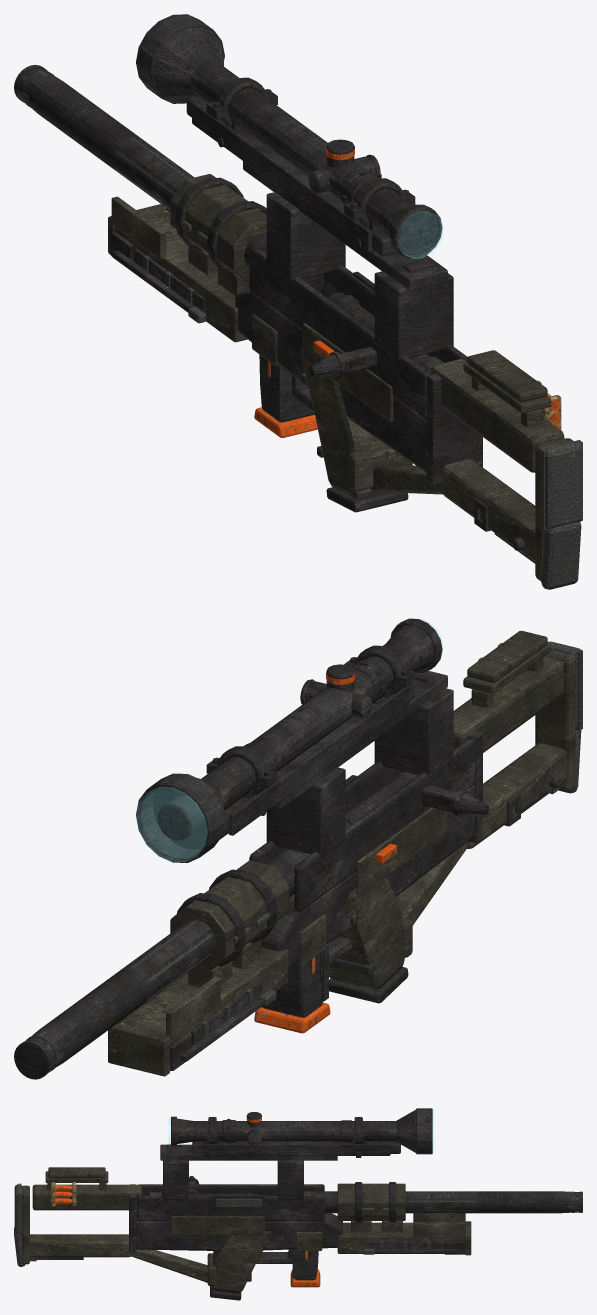
The model's file is ballista.glb.
The picture shows the model from 3 angles, top to bottom: view 1: azimuth 30°, elevation 25°; view 2: azimuth 150°, elevation 25°; view 3: azimuth 270°, elevation 25°; orthographic projection. The views are drawn at different scales.
Parts seen in each view (by area): view 1: body | gunmetal, body | olive drab, factory-optic | gunmetal, body | rubber, bolt | gunmetal, mag | gunmetal, factory-optic | optic glass, mag | orange paint, mag | olive drab; view 2: body | gunmetal, body | olive drab, factory-optic | gunmetal, factory-optic | optic glass, body | rubber, bolt | gunmetal, mag | gunmetal, mag | orange paint, mag | olive drab; view 3: body | gunmetal, body | olive drab, factory-optic | gunmetal, body | rubber, mag | gunmetal, mag | olive drab, trigger | gunmetal, mag | orange paint, bolt | gunmetal.
Boxes of the visible parts, left/top/right/bottom form: body | gunmetal: left=14, top=65, right=535, bottom=563; body | olive drab: left=108, top=174, right=573, bottom=581; factory-optic | gunmetal: left=136, top=14, right=442, bottom=258; body | rubber: left=21, top=69, right=582, bottom=589; bolt | gunmetal: left=309, top=292, right=443, bottom=379; mag | gunmetal: left=259, top=354, right=314, bottom=422; factory-optic | optic glass: left=139, top=23, right=443, bottom=258; mag | orange paint: left=254, top=361, right=317, bottom=437; mag | olive drab: left=252, top=314, right=285, bottom=370; body | gunmetal: left=14, top=670, right=561, bottom=1079; body | olive drab: left=108, top=630, right=575, bottom=1076; factory-optic | gunmetal: left=136, top=618, right=442, bottom=862; factory-optic | optic glass: left=136, top=618, right=443, bottom=862; body | rubber: left=26, top=641, right=582, bottom=1072; bolt | gunmetal: left=345, top=771, right=489, bottom=828; mag | gunmetal: left=262, top=944, right=328, bottom=1017; mag | orange paint: left=254, top=957, right=330, bottom=1033; mag | olive drab: left=295, top=914, right=325, bottom=966; body | gunmetal: left=36, top=1144, right=582, bottom=1300; body | olive drab: left=21, top=1167, right=471, bottom=1293; factory-optic | gunmetal: left=171, top=1108, right=432, bottom=1157; body | rubber: left=14, top=1183, right=579, bottom=1266; mag | gunmetal: left=292, top=1249, right=318, bottom=1280; mag | olive drab: left=292, top=1232, right=322, bottom=1250; trigger | gunmetal: left=256, top=1249, right=292, bottom=1263; mag | orange paint: left=290, top=1251, right=320, bottom=1287; bolt | gunmetal: left=148, top=1176, right=259, bottom=1195.
Bounding box in the file's own units: 0.1495 × 0.3882 × 1.09.
7 materials, 6 textured.
